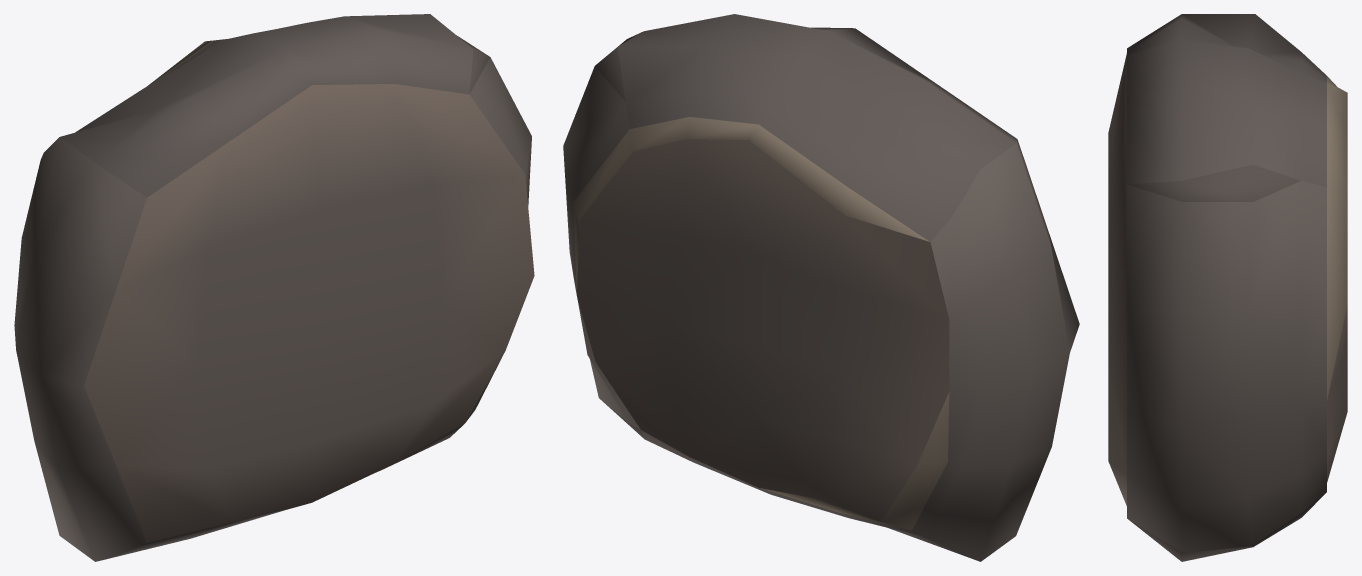
File: RockSmall.001.glb
3 views of the same model, side by side, from view 1: azimuth 30°, elevation 25°; view 2: azimuth 150°, elevation 25°; view 3: azimuth 270°, elevation 25° (orthographic). The views are drawn at different scales.
Parts seen in each view (by area): view 1: RockSmall.001; view 2: RockSmall.001; view 3: RockSmall.001.
Boxes of the visible parts, <box> form: RockSmall.001: <box>14,14,534,561</box>; RockSmall.001: <box>563,14,1079,561</box>; RockSmall.001: <box>1108,14,1347,561</box>.
Bounding box in the file's own units: 153 × 139 × 63.1.
